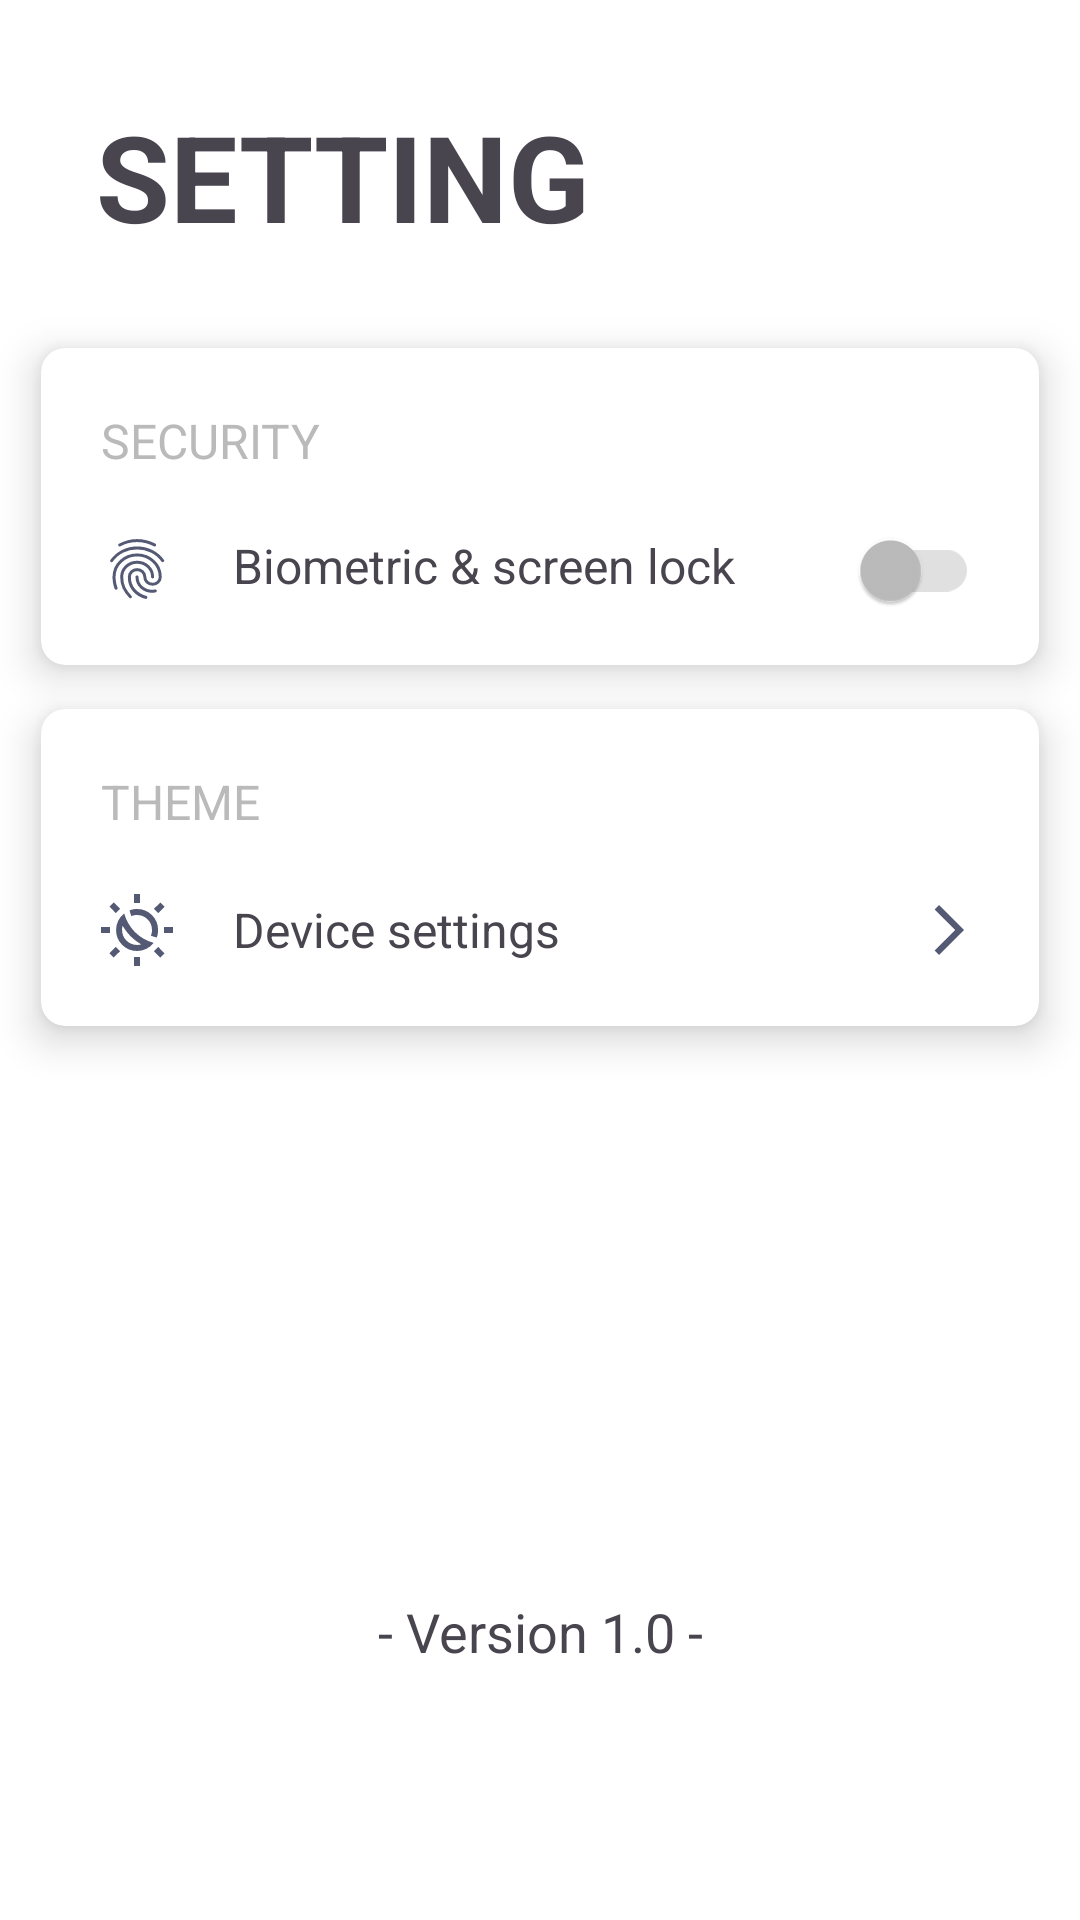

Screen size 1080×1920. Icon name, then its center in pixels as (x=x, y=y):
fingerprint: (x=137, y=569)
Next: (x=949, y=930)
